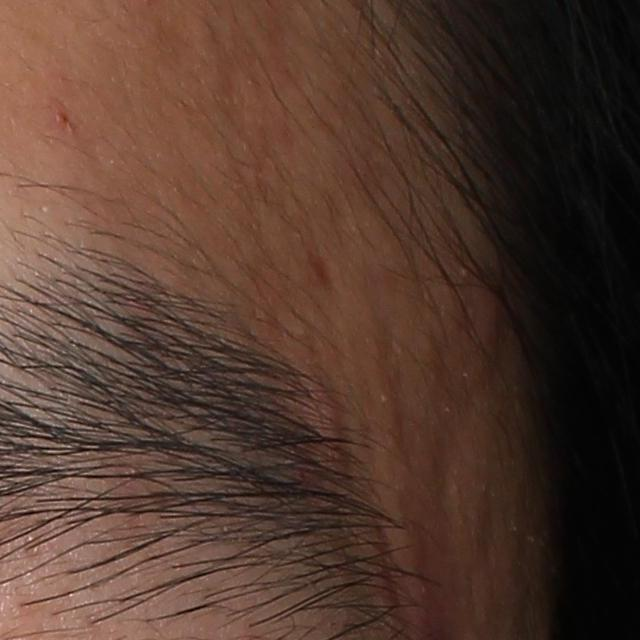atrophic_scar: (305, 249, 337, 284)
